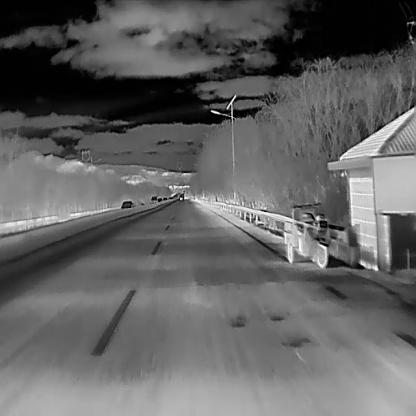bus: (183, 192, 189, 200)
car: (119, 200, 132, 209), (150, 195, 158, 203), (178, 196, 182, 200)
